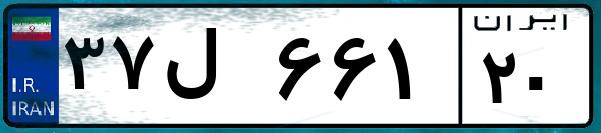0: (525, 38, 570, 115)
1: (385, 28, 445, 110)
2: (475, 38, 525, 113)
3: (57, 26, 110, 100)
6: (270, 28, 330, 110), (330, 28, 385, 110)
7: (110, 28, 158, 98)
ل: (158, 20, 270, 120)
